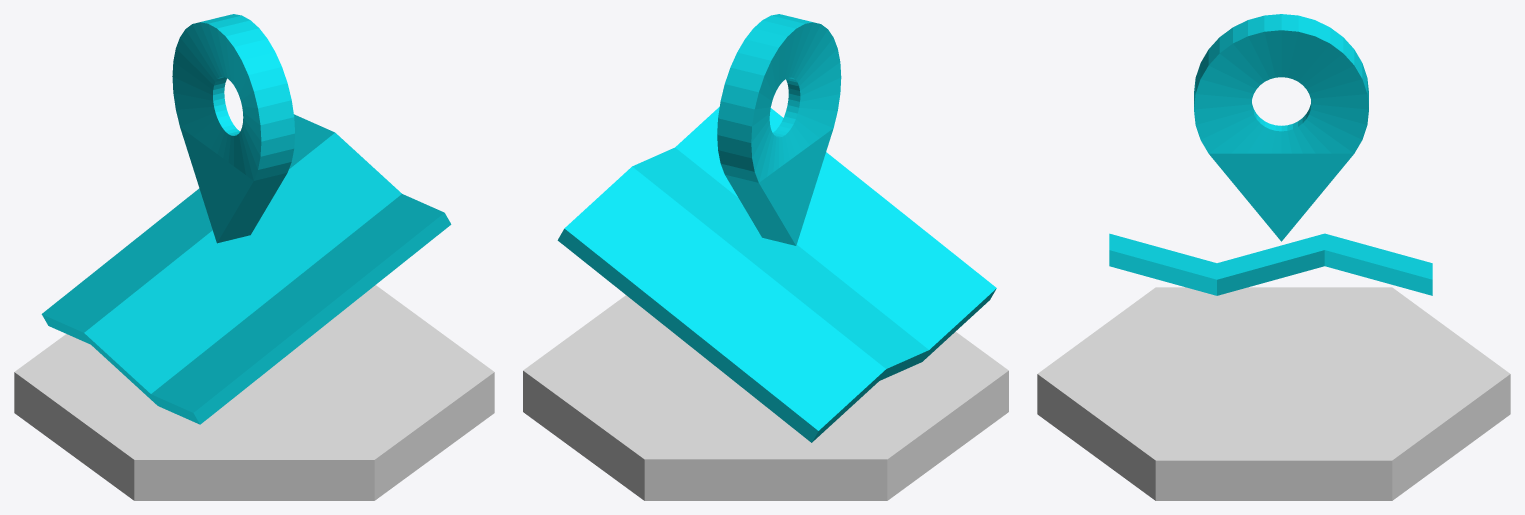
The model's file is mesh_token_4.fbx.
3 views of the same model, side by side, from view 1: azimuth 30°, elevation 25°; view 2: azimuth 150°, elevation 25°; view 3: azimuth 270°, elevation 25° (orthographic). The views are drawn at different scales.
Visible parts, largest first — view 1: mesh_tokenmap_1, mesh_tokenbase_4; view 2: mesh_tokenmap_1, mesh_tokenbase_4; view 3: mesh_tokenbase_4, mesh_tokenmap_1.
Boxes of the visible parts, x1=… form: mesh_tokenmap_1: x1=41, y1=14, x2=451, y2=424; mesh_tokenbase_4: x1=14, y1=285, x2=494, y2=500; mesh_tokenmap_1: x1=557, y1=14, x2=996, y2=442; mesh_tokenbase_4: x1=523, y1=295, x2=1008, y2=500; mesh_tokenbase_4: x1=1037, y1=287, x2=1510, y2=500; mesh_tokenmap_1: x1=1109, y1=14, x2=1432, y2=295.
Bounding box in the file's own units: 184 × 190 × 213.
